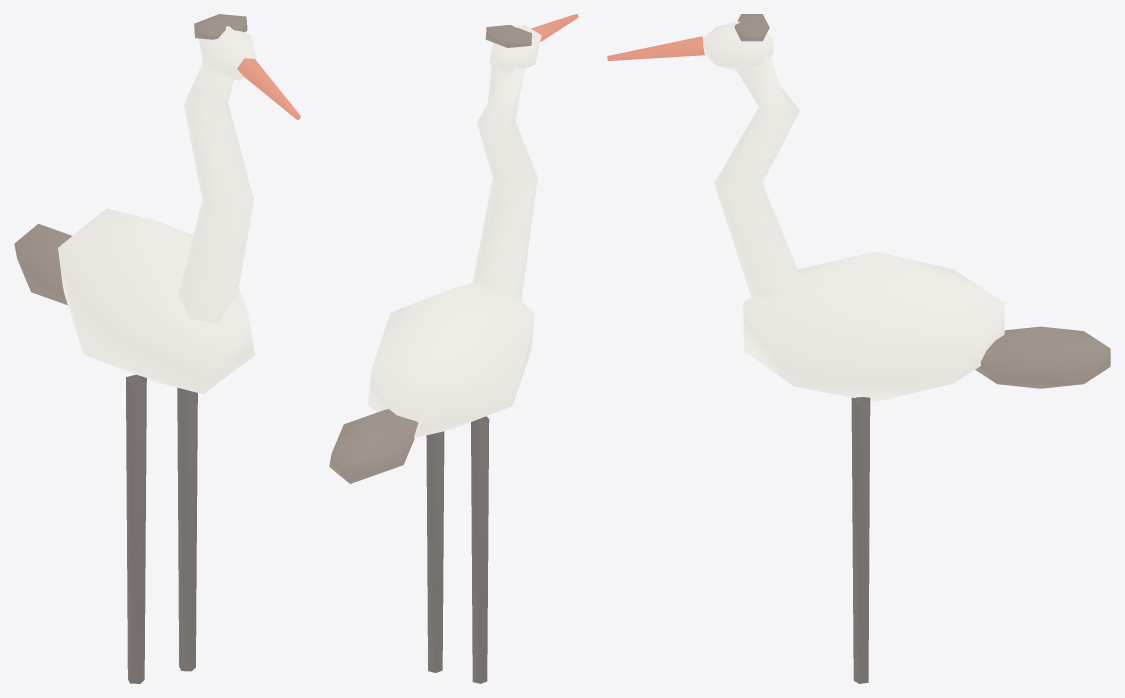
The model's file is Blender_Heron_1.glb.
3 renders of one model, left to right at view 1: azimuth 30°, elevation 25°; view 2: azimuth 150°, elevation 25°; view 3: azimuth 270°, elevation 25°, orthographic. The views are drawn at different scales.
Parts seen in each view (by area): view 1: Blender_Heron_1; view 2: Blender_Heron_1; view 3: Blender_Heron_1.
Boxes of the visible parts, x1,y1,x2,y2 form: Blender_Heron_1: (14,14,300,683); Blender_Heron_1: (329,14,578,683); Blender_Heron_1: (607,14,1110,683).
Size of the model in its own units: 0.2186 by 1.04 by 0.7326.
